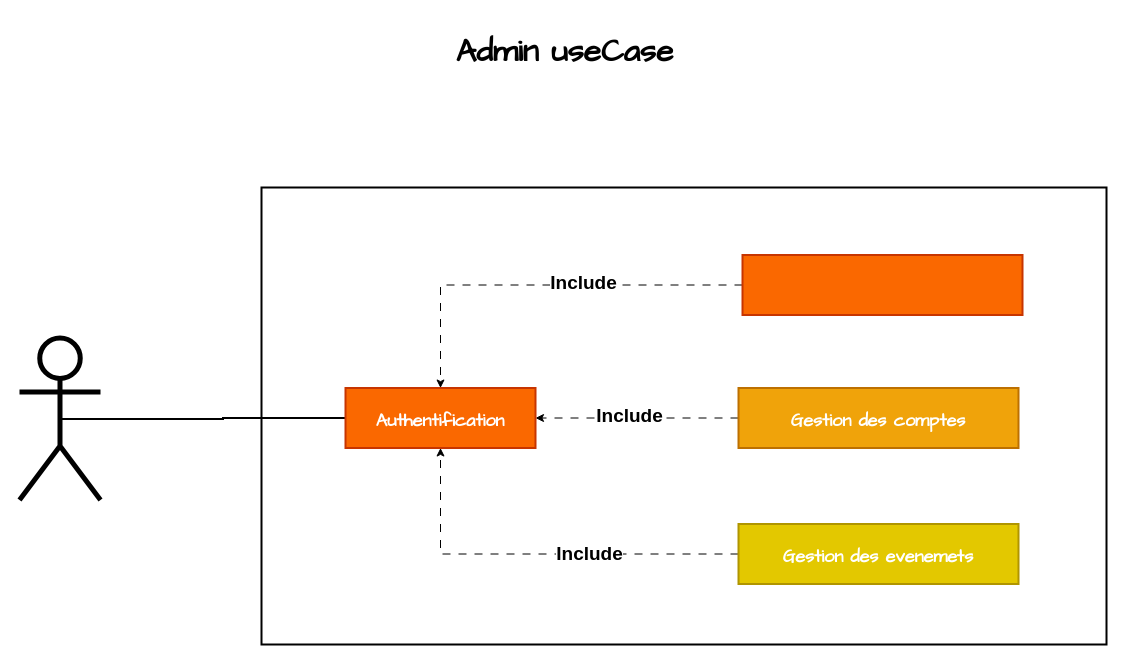
Image size: 1125x663. Some labels were removed from this diagram. Each missing label, with the box of its shape:
Actor: (16, 335, 102, 502)
Changement des mots de passes: (741, 254, 1023, 316)
